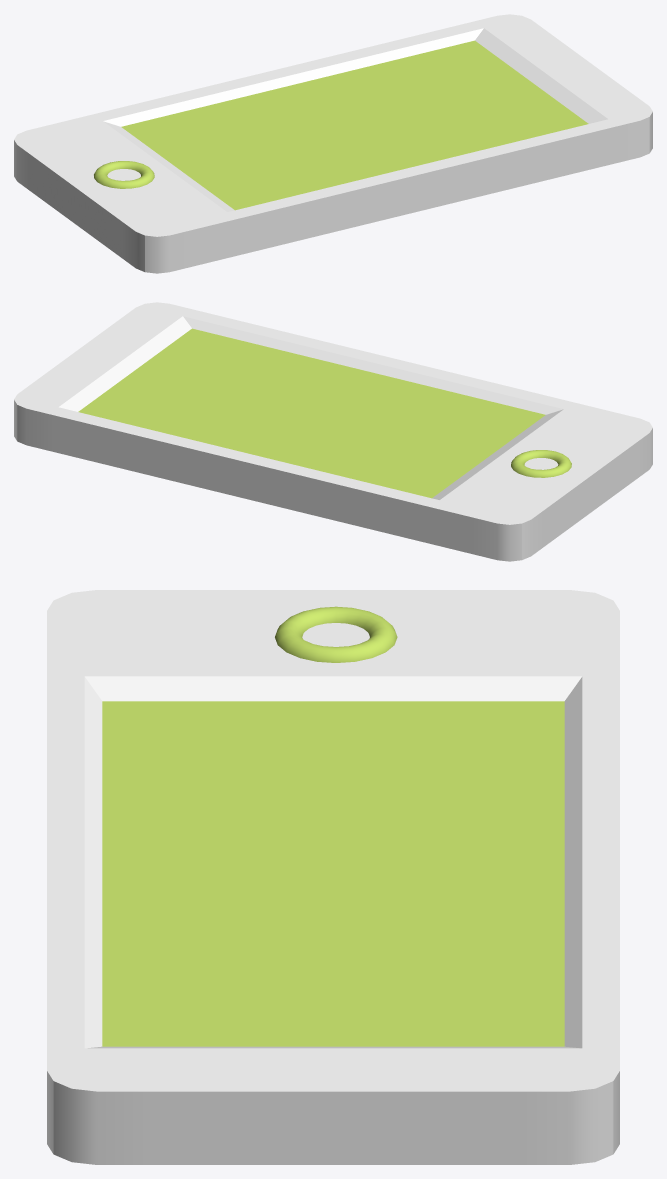
The model's file is Cellphone.fbx.
3 renders of one model, top to bottom at view 1: azimuth 30°, elevation 25°; view 2: azimuth 150°, elevation 25°; view 3: azimuth 270°, elevation 25°, orthographic. The views are drawn at different scales.
Parts seen in each view (by area): view 1: pCube2; view 2: pCube2; view 3: pCube2.
Part boxes in pixels (x1,y1,x2,y2): pCube2: (14, 14, 652, 273); pCube2: (14, 302, 652, 561); pCube2: (47, 590, 619, 1164).
Size of the model in its own units: 16.42 by 1.26 by 7.93.
1 material, 1 textured.
